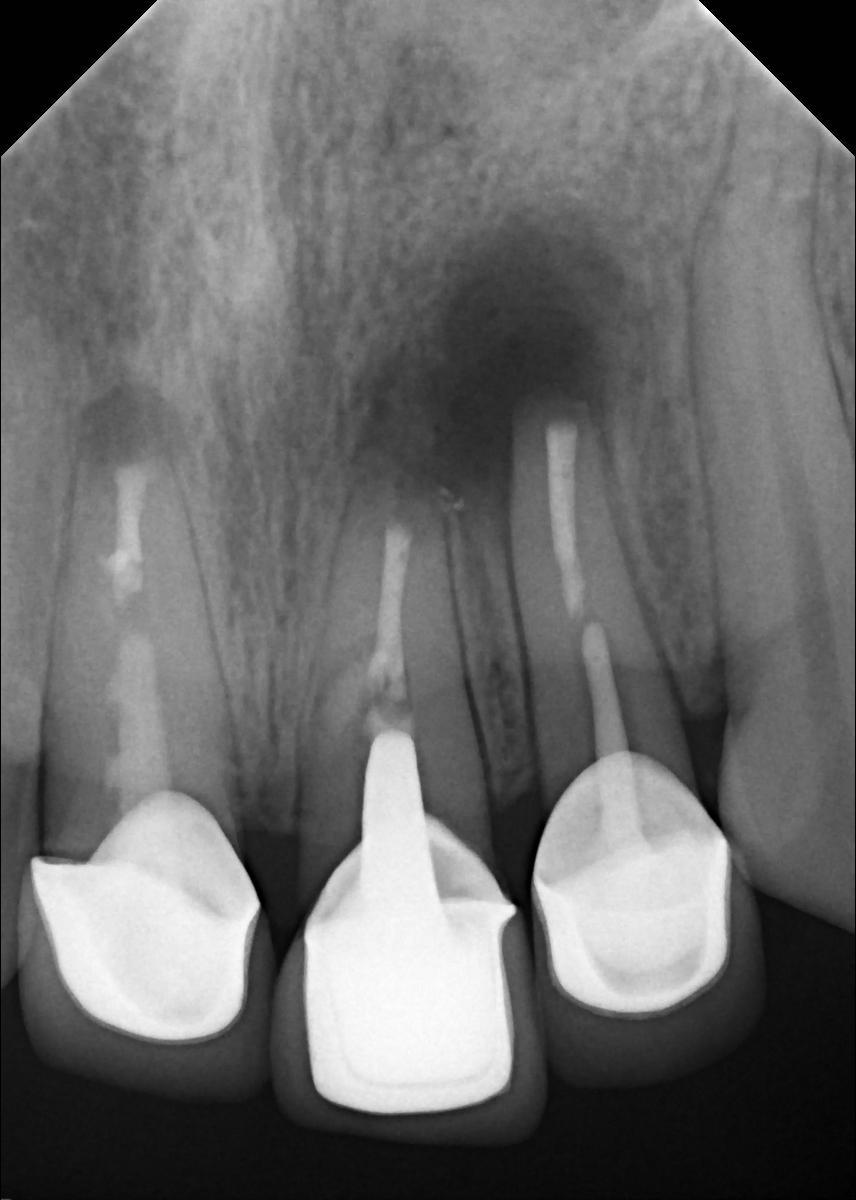Furcation Involvement: (335, 215, 638, 531), (72, 380, 188, 465)
